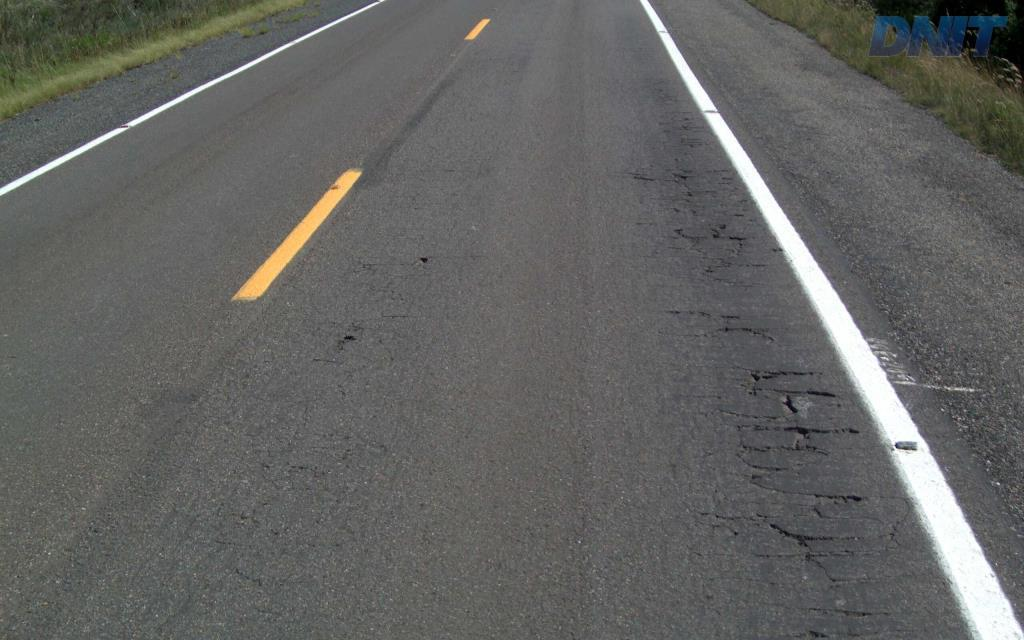crack: (769, 522, 846, 582), (742, 367, 813, 396), (764, 387, 836, 415)
